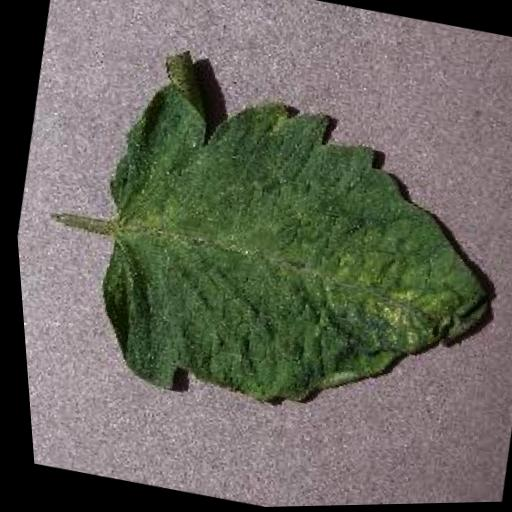Spider Mites: (51, 29, 512, 459)
